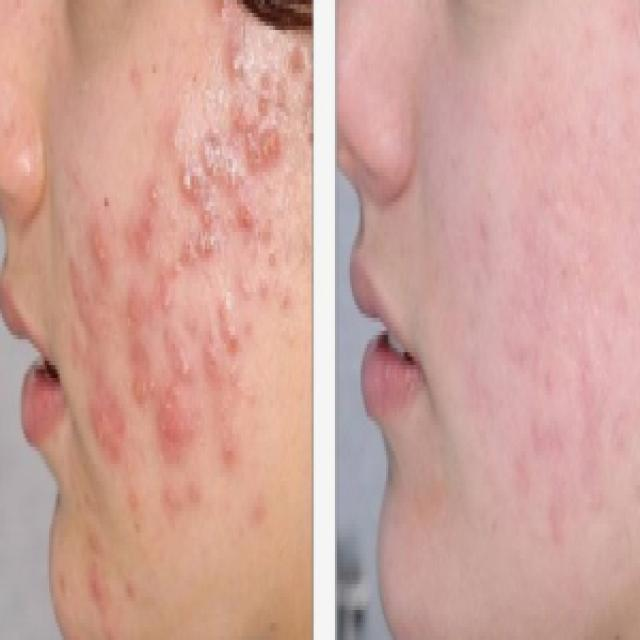Acne: (85, 359, 140, 457), (189, 208, 245, 278), (162, 328, 220, 386), (250, 208, 285, 302), (157, 389, 198, 462), (84, 564, 126, 634), (198, 132, 242, 196), (120, 277, 184, 320), (245, 114, 282, 174), (216, 427, 246, 484), (218, 296, 252, 343), (170, 172, 211, 209), (87, 212, 111, 274), (250, 475, 276, 530), (225, 42, 252, 92), (290, 34, 315, 84), (141, 172, 163, 216)
